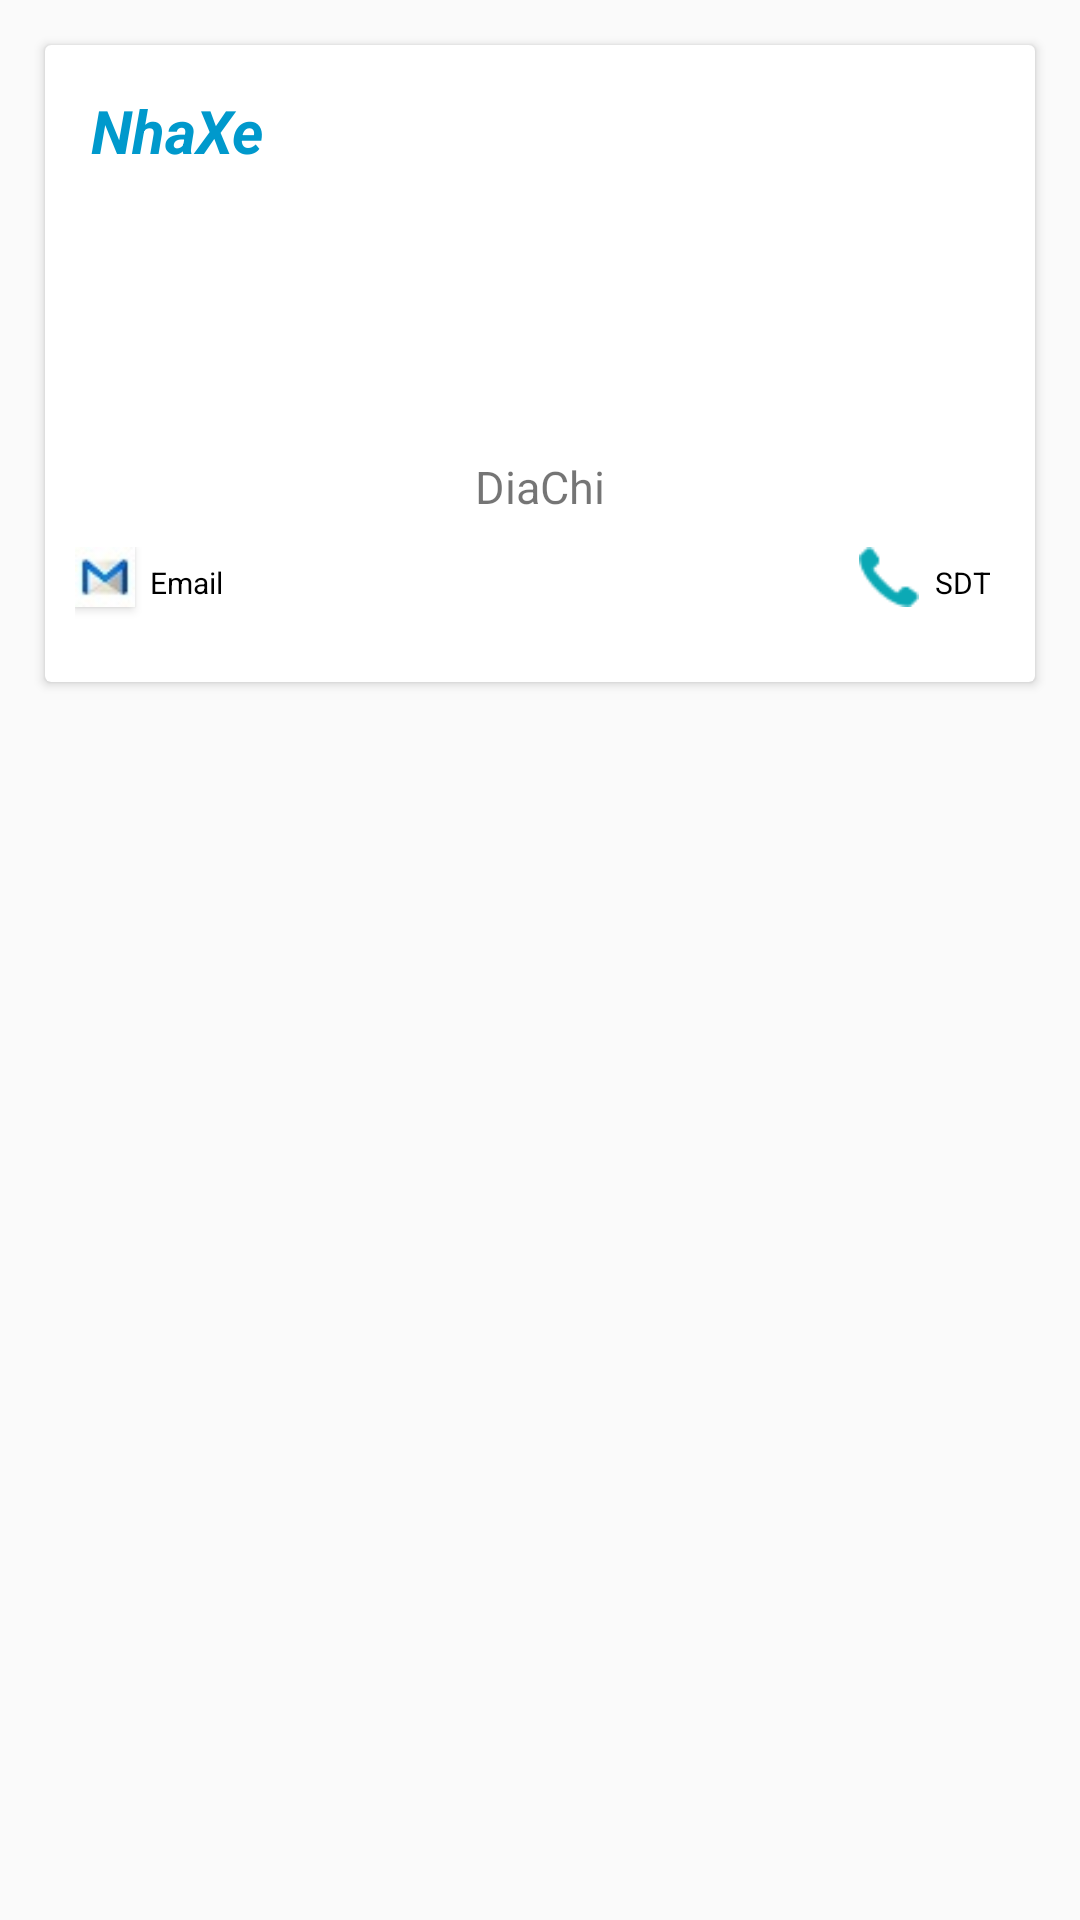

Named icons in this screenshot (1080×1920) and their centers, (x,y):
call: (889,577)
